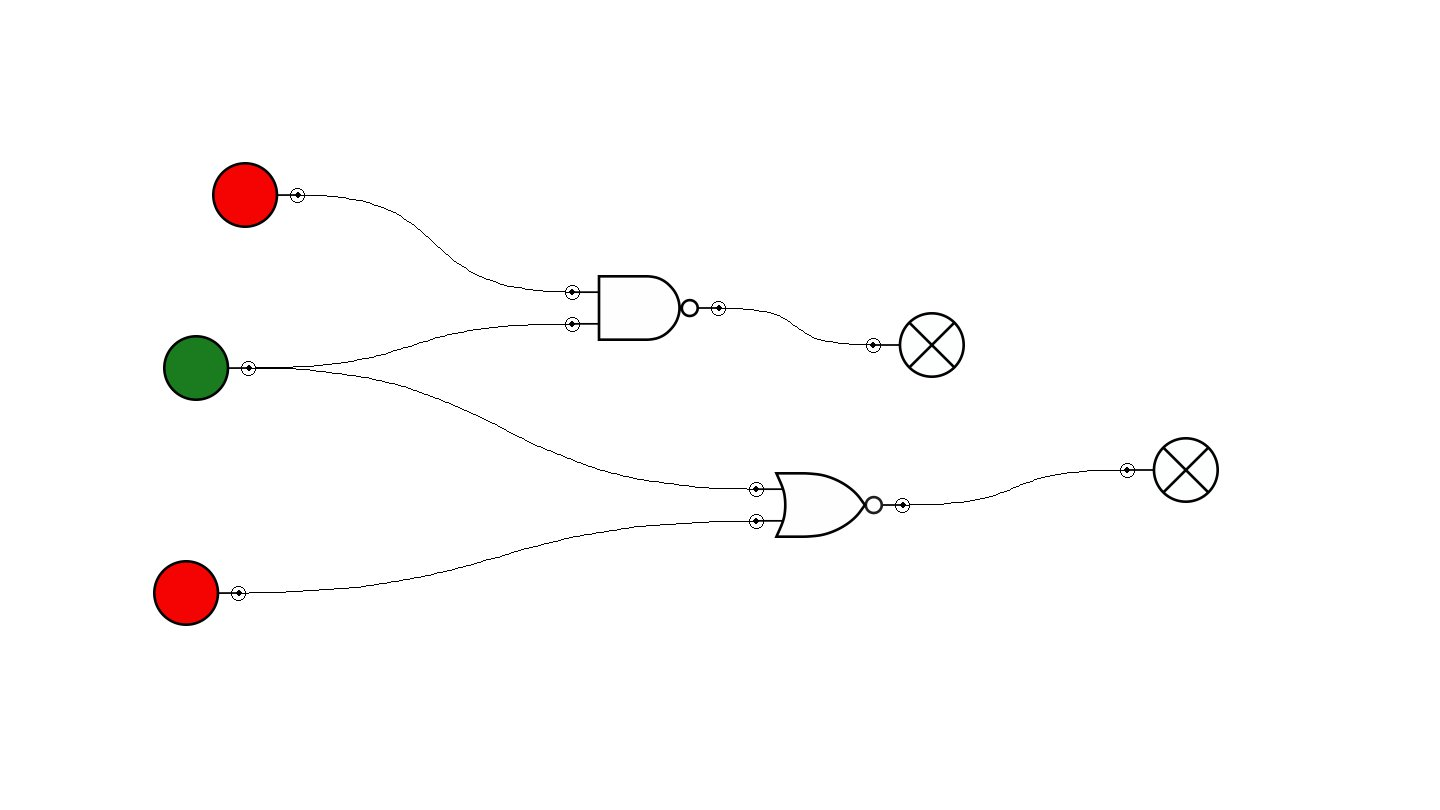bulb: (866, 312, 965, 378), (1120, 437, 1219, 503)
nand: (565, 275, 726, 341)
nor: (749, 472, 910, 538)
switch_False: (153, 560, 246, 626), (212, 162, 305, 228)
switch_True: (163, 335, 256, 401)
